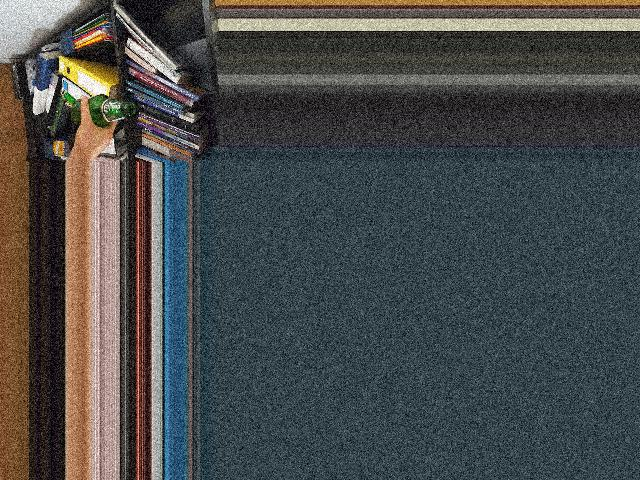beer: (69, 95, 134, 126)
